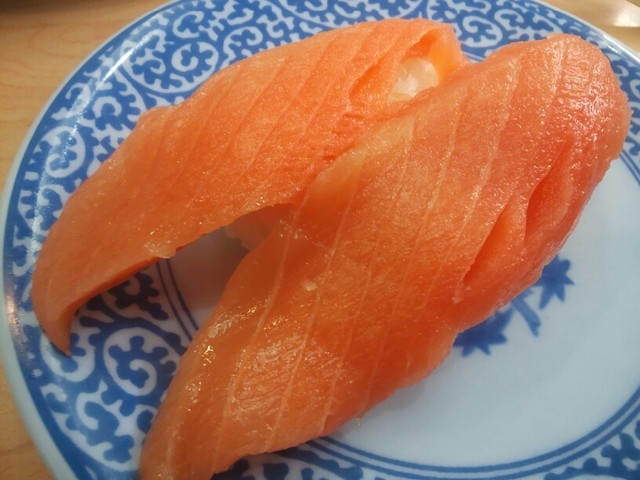salmon: (116, 36, 626, 480)
